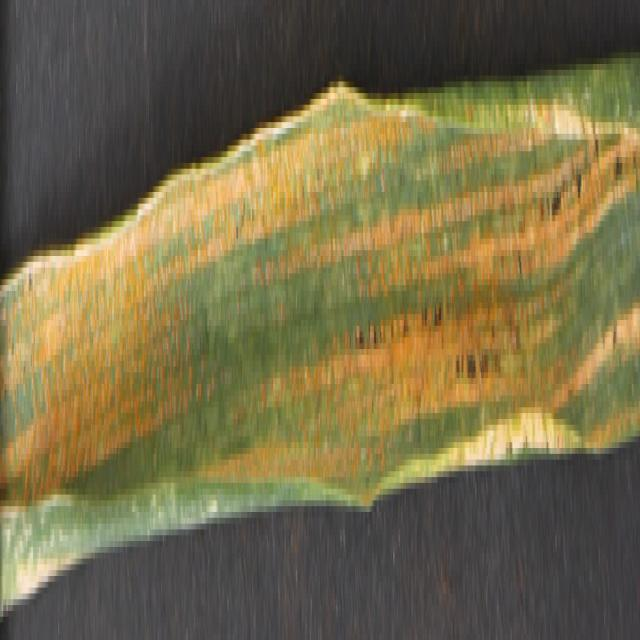leaf rust: (1, 76, 637, 524)
